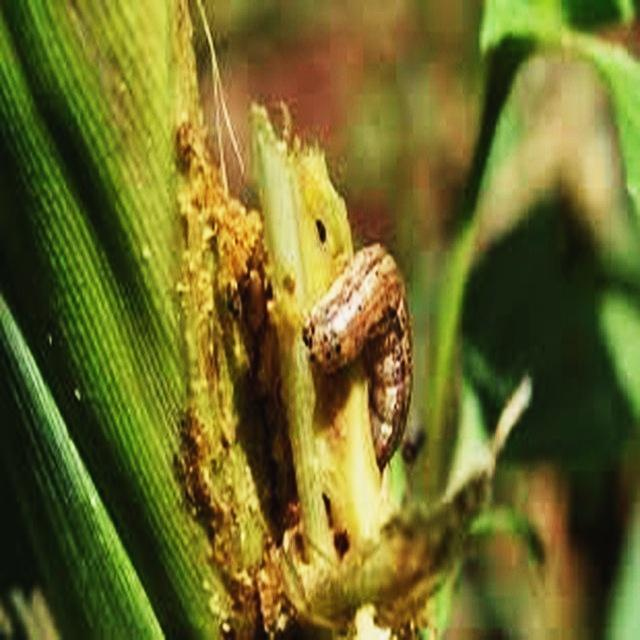Plaga: (307, 242, 418, 470)
